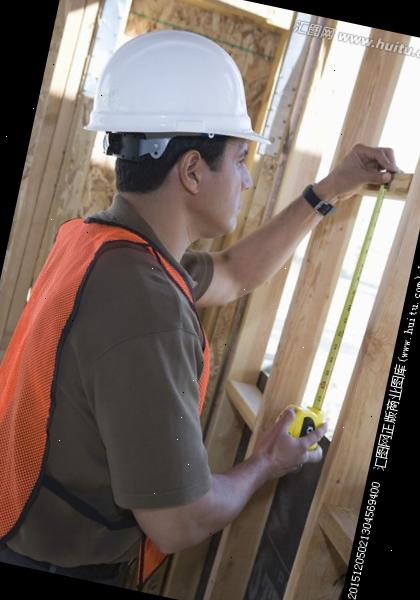helmet: (74, 12, 288, 176)
wear: (0, 207, 220, 593)
